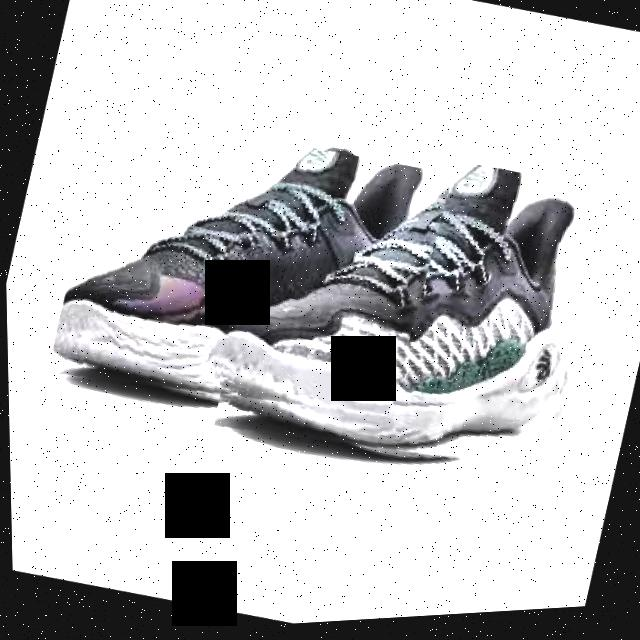shoe: (205, 114, 621, 513), (40, 94, 457, 459)
